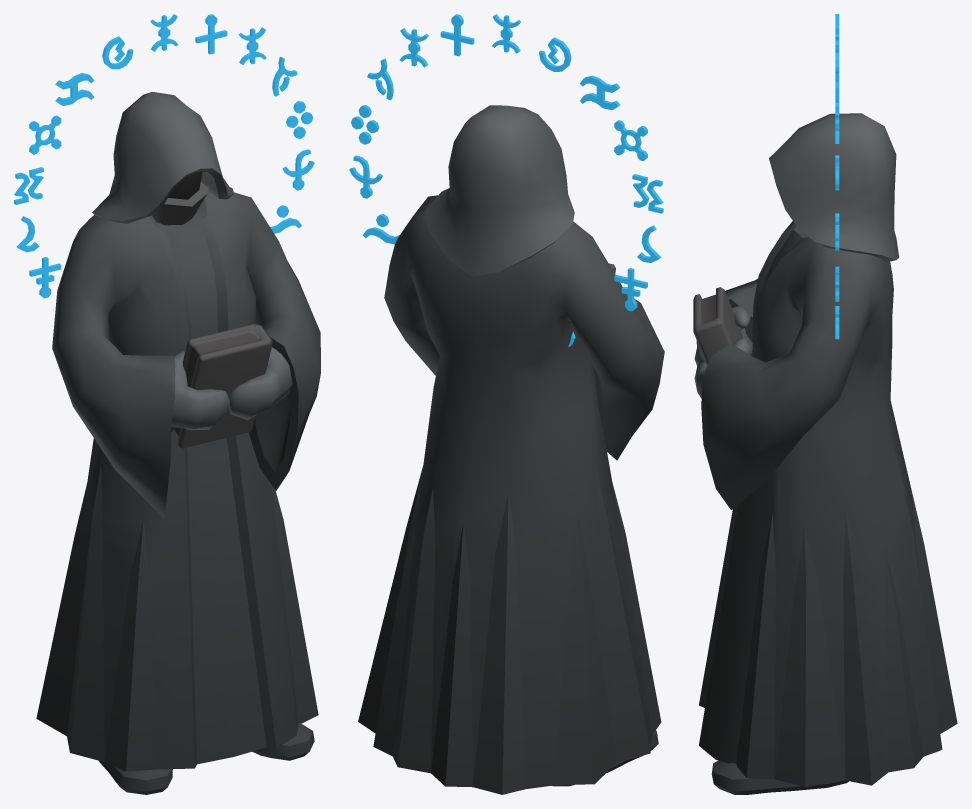
The model's file is statue_warlock_001.glb.
3 renders of one model, left to right at view 1: azimuth 30°, elevation 25°; view 2: azimuth 150°, elevation 25°; view 3: azimuth 270°, elevation 25°, orthographic. The views are drawn at different scales.
Parts seen in each view (by area): view 1: statue_warlock_001, state_warlock_circle_001; view 2: statue_warlock_001, state_warlock_circle_001; view 3: statue_warlock_001, state_warlock_circle_001.
Boxes of the visible parts, x1,y1,x2,y2 form: statue_warlock_001: (36, 92, 320, 794); state_warlock_circle_001: (14, 14, 314, 298); statue_warlock_001: (358, 105, 664, 794); state_warlock_circle_001: (349, 14, 663, 347); statue_warlock_001: (693, 113, 957, 794); state_warlock_circle_001: (835, 14, 839, 339).
Size of the model in its own units: 4.91 by 11.26 by 3.74.
Materials: 2 (2 with a texture image).
